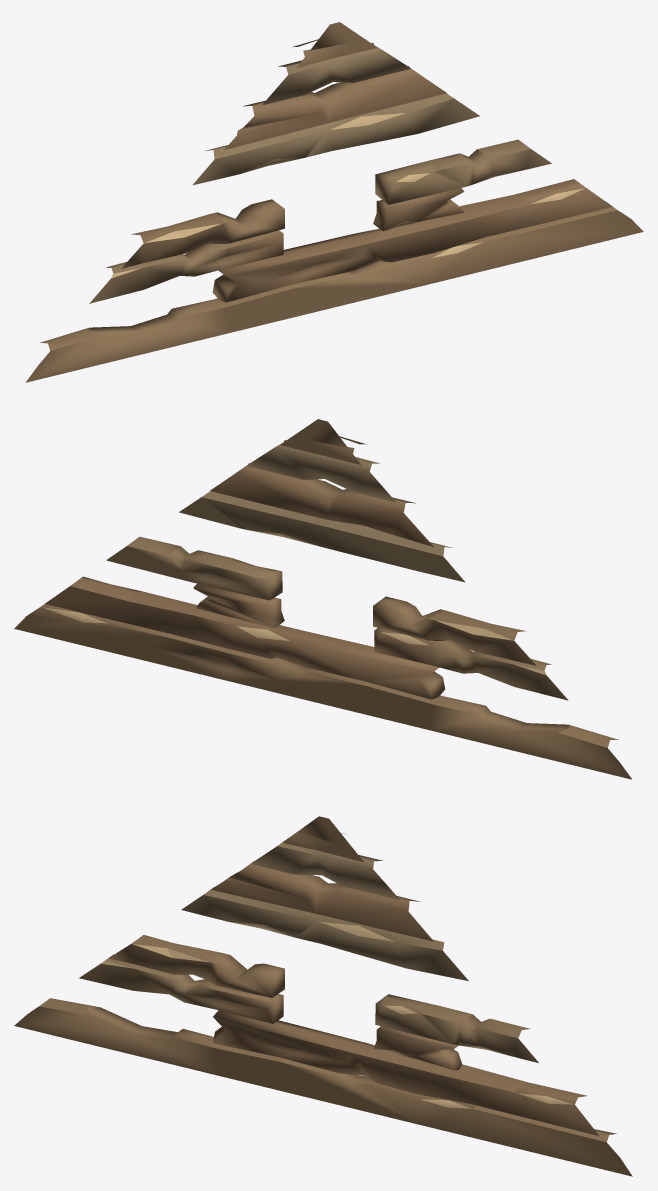
The model's file is rpgpp_av_roof_end_01_9x4_wall_window_01a.gltf.
3 views of the same model, one above another, from view 1: azimuth 30°, elevation 25°; view 2: azimuth 150°, elevation 25°; view 3: azimuth 330°, elevation 25° (orthographic).
Parts seen in each view (by area): view 1: rpgpp_av_roof_end_01_9x4_wall_window_01a; view 2: rpgpp_av_roof_end_01_9x4_wall_window_01a; view 3: rpgpp_av_roof_end_01_9x4_wall_window_01a.
Part boxes in pixels (x1,y1,x2,y2): rpgpp_av_roof_end_01_9x4_wall_window_01a: (25, 22, 643, 382); rpgpp_av_roof_end_01_9x4_wall_window_01a: (14, 419, 631, 779); rpgpp_av_roof_end_01_9x4_wall_window_01a: (14, 816, 632, 1176).
Size of the model in its own units: 0.0967 by 0.0424 by 0.00387.
1 material, 1 textured.
